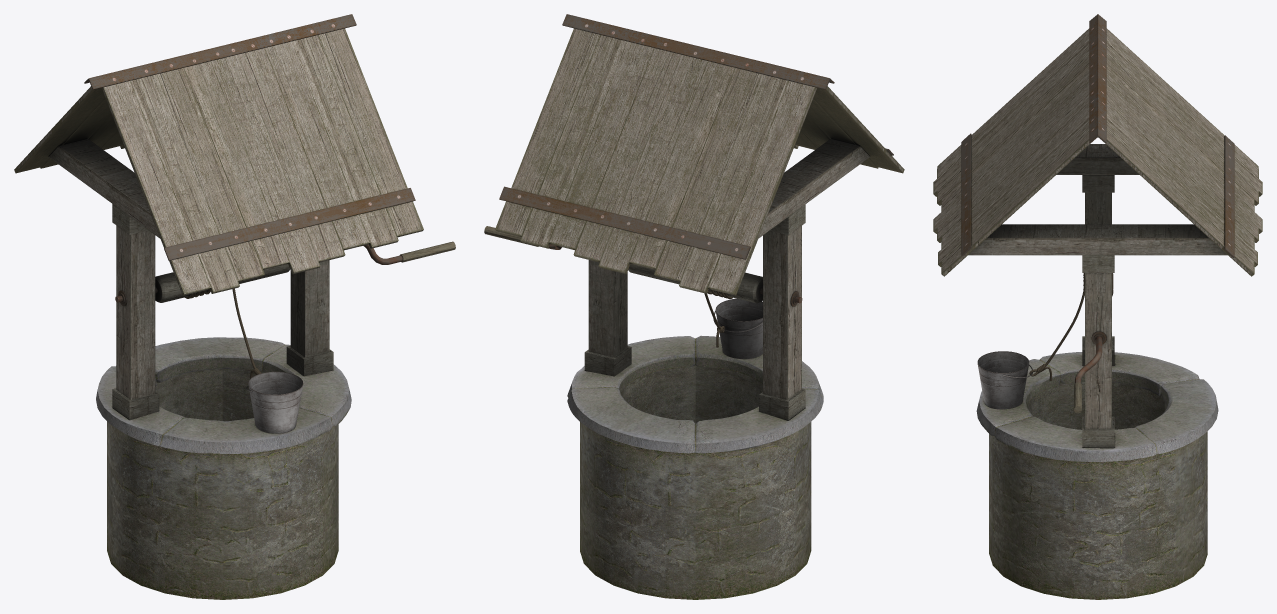
File: Pit.fbx
3 renders of one model, left to right at view 1: azimuth 30°, elevation 25°; view 2: azimuth 150°, elevation 25°; view 3: azimuth 270°, elevation 25°, orthographic. The views are drawn at different scales.
Parts seen in each view (by area): view 1: Well_Top_0, Well_WellTube_0, Well_Details_0; view 2: Well_Top_0, Well_WellTube_0, Well_Details_0; view 3: Well_WellTube_0, Well_Top_0, Well_Details_0, Well_Wire_0.
Boxes of the visible parts, <box> form: Well_Top_0: <box>14,14,423,295</box>; Well_WellTube_0: <box>96,337,351,599</box>; Well_Details_0: <box>48,139,455,433</box>; Well_Top_0: <box>495,14,904,295</box>; Well_WellTube_0: <box>567,335,823,599</box>; Well_Details_0: <box>484,138,870,420</box>; Well_WellTube_0: <box>976,352,1218,599</box>; Well_Top_0: <box>933,14,1262,276</box>; Well_Details_0: <box>968,144,1227,448</box>; Well_Wire_0: <box>1029,273,1113,380</box>.
Size of the model in its own units: 167 by 228 by 142.
